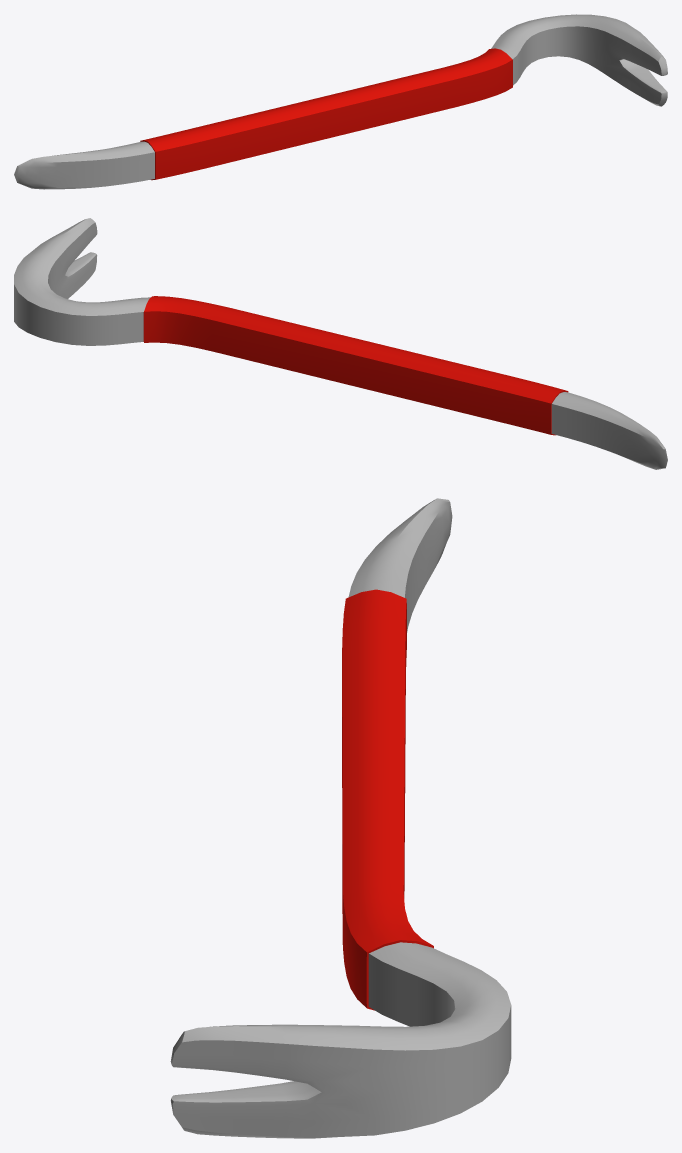
Rendered from Linggis.fbx.
The picture shows the model from 3 angles, top to bottom: view 1: azimuth 30°, elevation 25°; view 2: azimuth 150°, elevation 25°; view 3: azimuth 270°, elevation 25°; orthographic projection. The views are drawn at different scales.
Parts seen in each view (by area): view 1: Linggis.001; view 2: Linggis.001; view 3: Linggis.001.
Part boxes in pixels (x1,y1,x2,y2): Linggis.001: [14, 14, 667, 189]; Linggis.001: [14, 218, 667, 469]; Linggis.001: [170, 498, 511, 1138].
Size of the model in its own units: 50.32 by 4.46 by 12.51.
